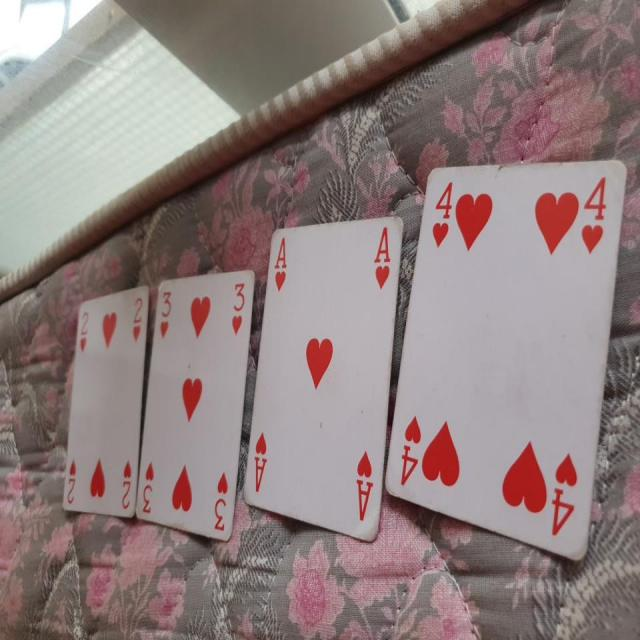2 Hearts: (55, 285, 152, 522)
3 Hearts: (127, 258, 263, 549)
4 Hearts: (383, 155, 632, 578)
A Hearts: (248, 210, 406, 549)
